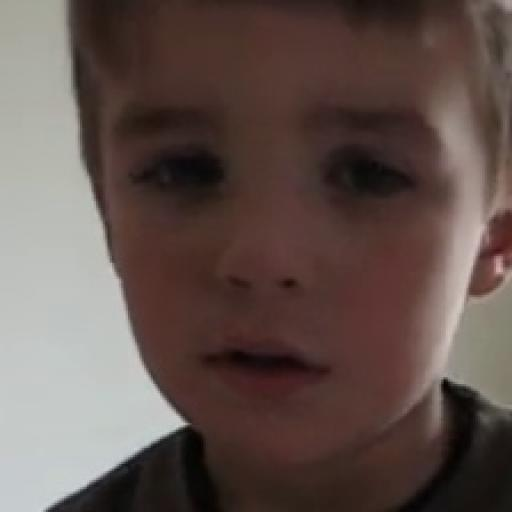Autism: (59, 4, 512, 455)
